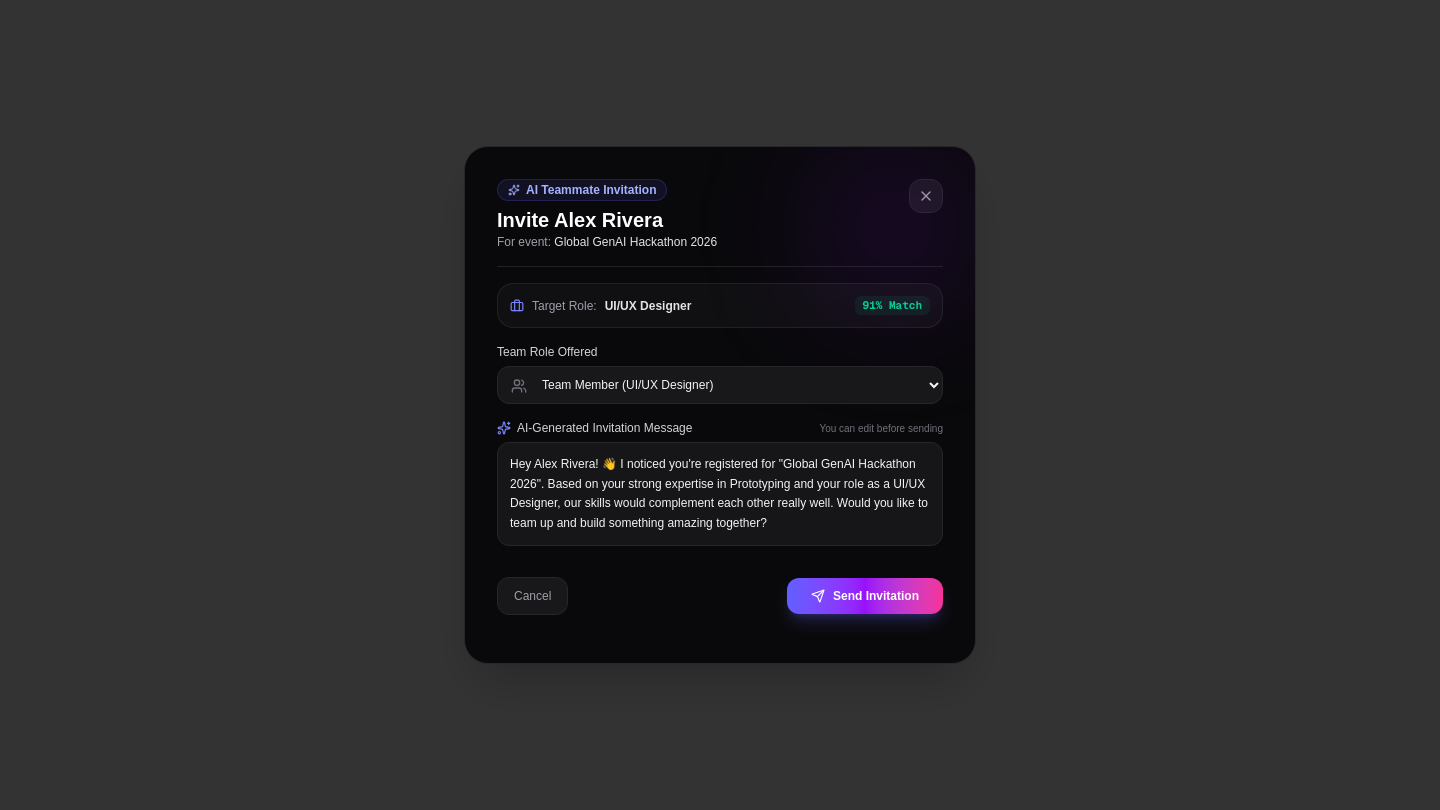
Test: InviteTeammateModal Component › handles API error gracefully and displays error banner
Click the button "Send Invitation": (865, 596) left=787, top=578, right=943, bottom=614
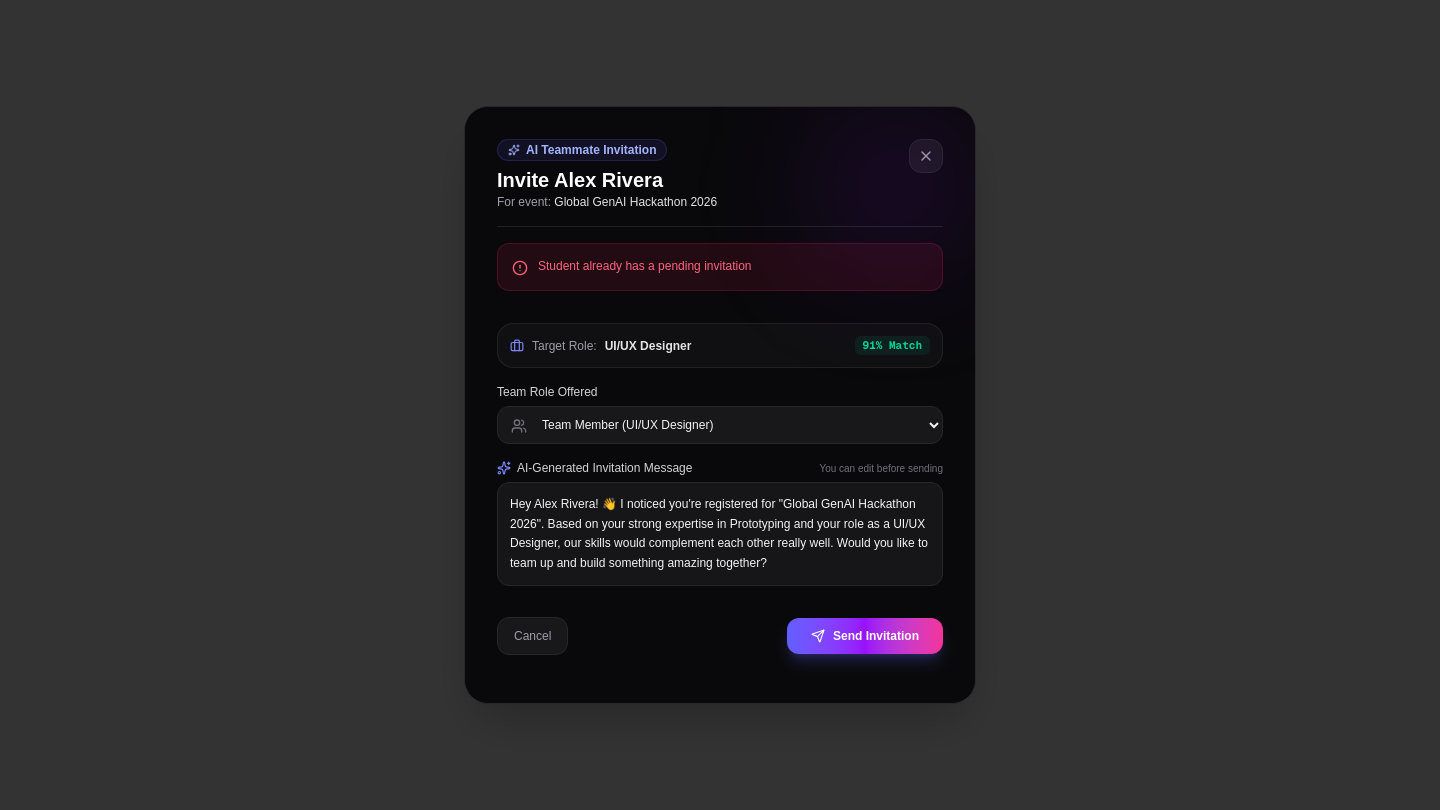
Result: the text "Student already has a pending invitation" is shown at left=538, top=258, right=752, bottom=274
